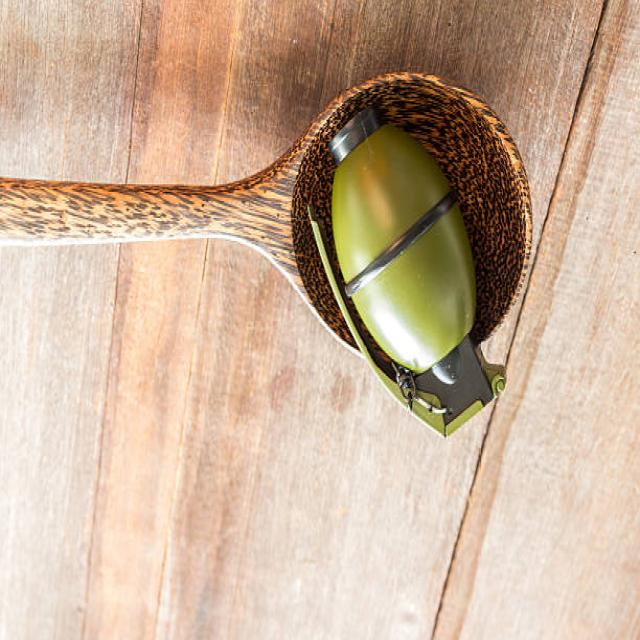grenade: (305, 90, 517, 446)
